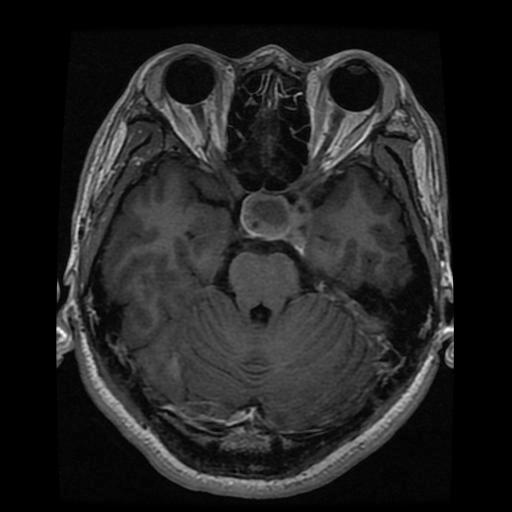Tumour-Pituitary: (236, 189, 298, 246)
